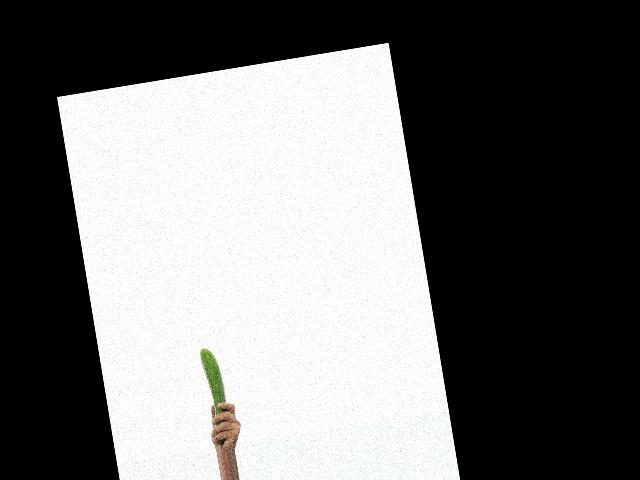cucumber: (198, 345, 233, 449)
